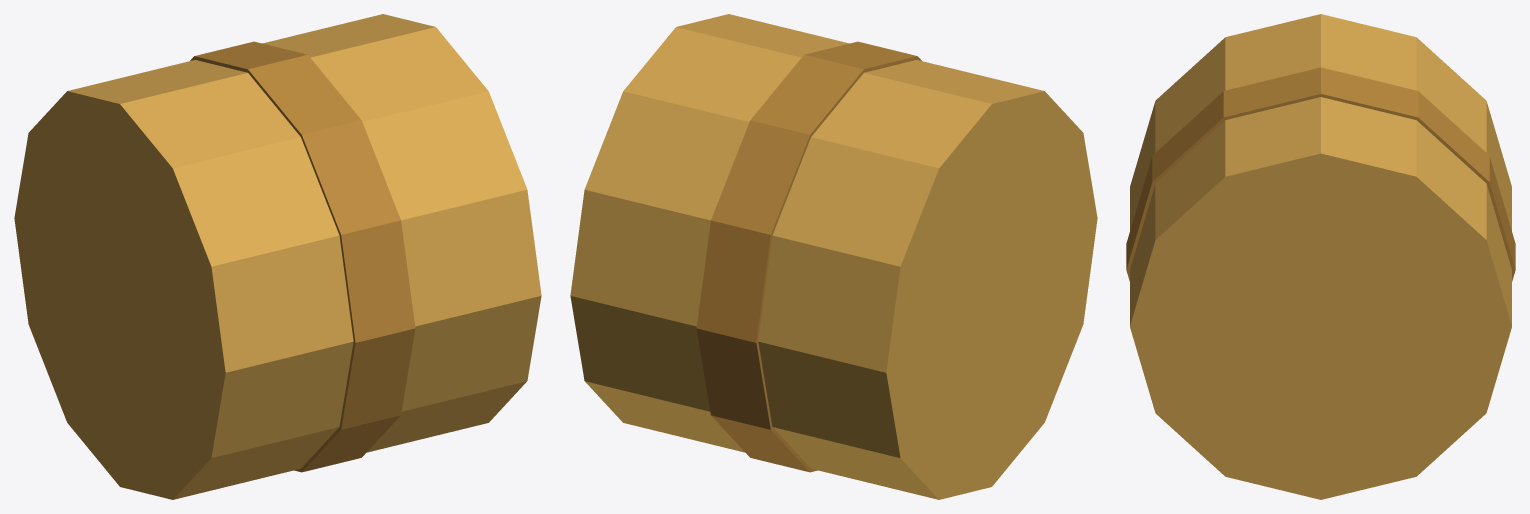
Rendered from hay.glb.
3 views of the same model, side by side, from view 1: azimuth 30°, elevation 25°; view 2: azimuth 150°, elevation 25°; view 3: azimuth 270°, elevation 25° (orthographic). The views are drawn at different scales.
Bounding box in the file's own units: 0.95 × 1.12 × 1.12.
